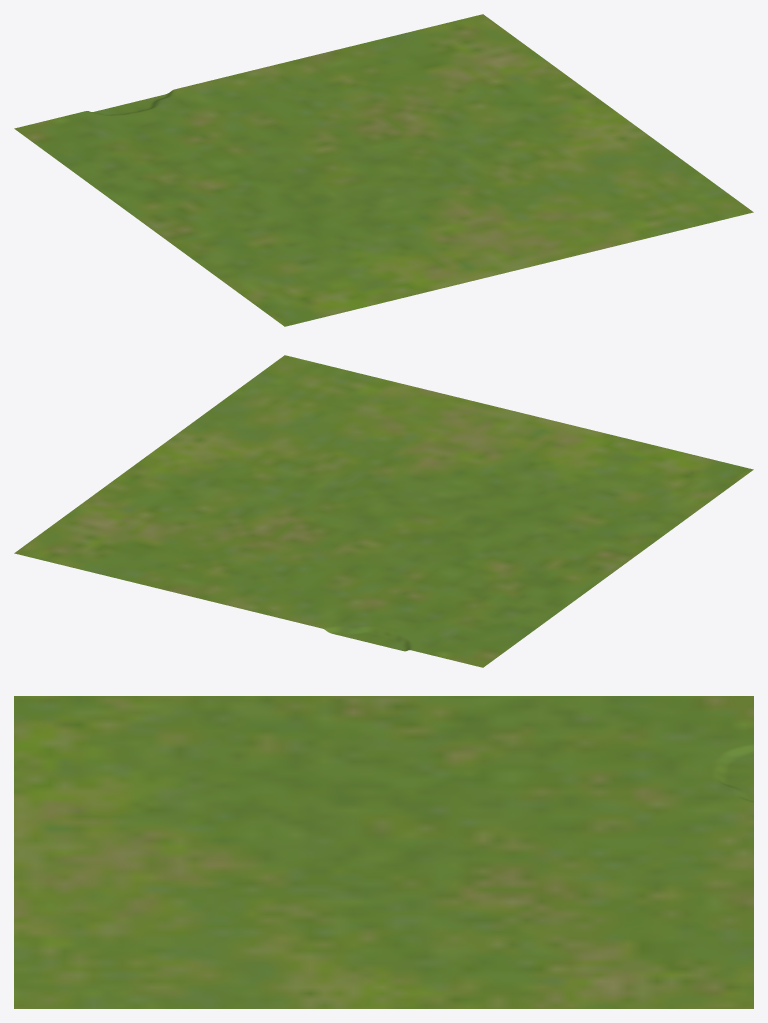
Rendered from GroundTileMesh_10_10.fbx.
3 views of the same model, one above another, from view 1: azimuth 30°, elevation 25°; view 2: azimuth 150°, elevation 25°; view 3: azimuth 270°, elevation 25° (orthographic). The views are drawn at different scales.
Visible parts, largest first — view 1: GroundTile_10_10; view 2: GroundTile_10_10; view 3: GroundTile_10_10.
Boxes of the visible parts, x1,y1,x2,y2 form: GroundTile_10_10: [14, 14, 753, 326]; GroundTile_10_10: [14, 355, 753, 667]; GroundTile_10_10: [14, 696, 753, 1008].
Size of the model in its own units: 32500 by 183 by 32500.
Materials: 1 (1 with a texture image).
